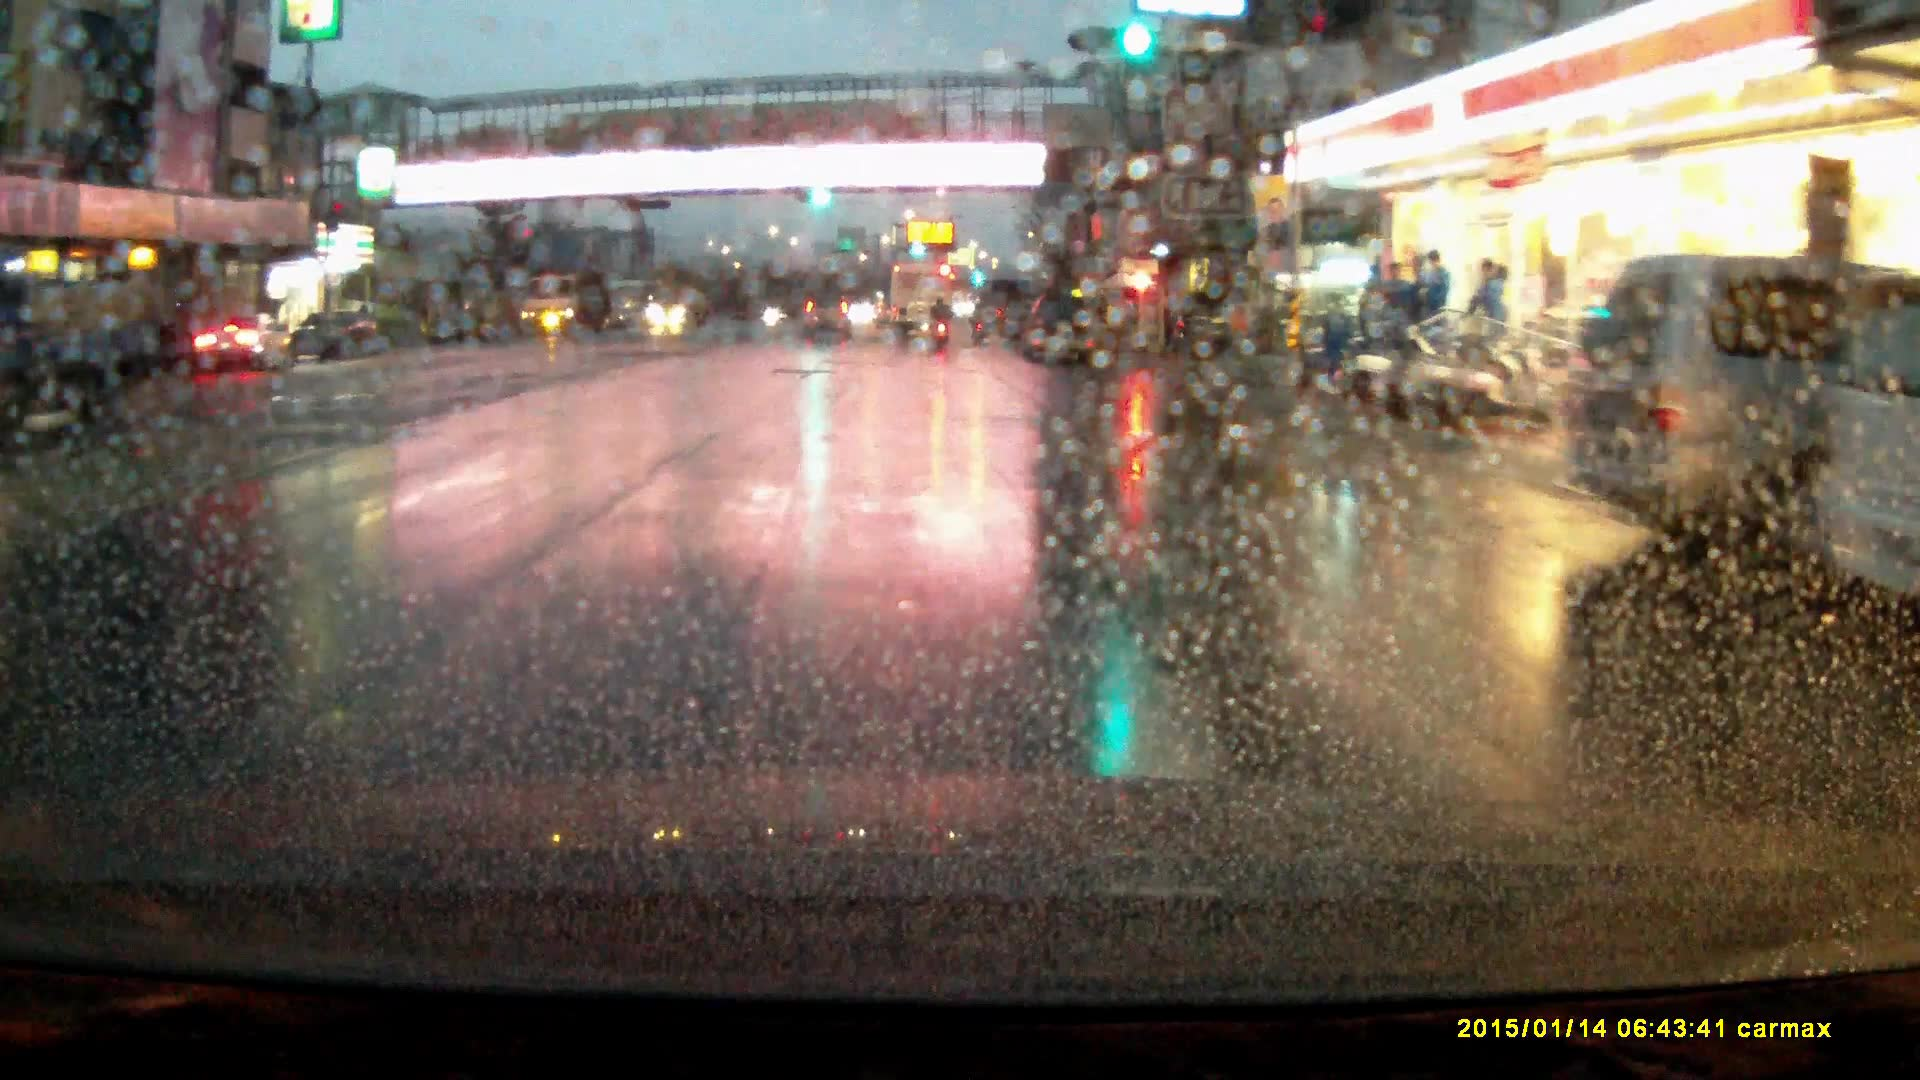rider: (929, 295, 956, 349)
vehicle: (1567, 252, 1907, 570), (3, 272, 165, 431), (517, 273, 610, 339), (1024, 291, 1097, 368), (286, 310, 387, 363), (1169, 298, 1252, 358), (891, 259, 951, 341), (802, 296, 856, 344), (655, 282, 712, 329)
